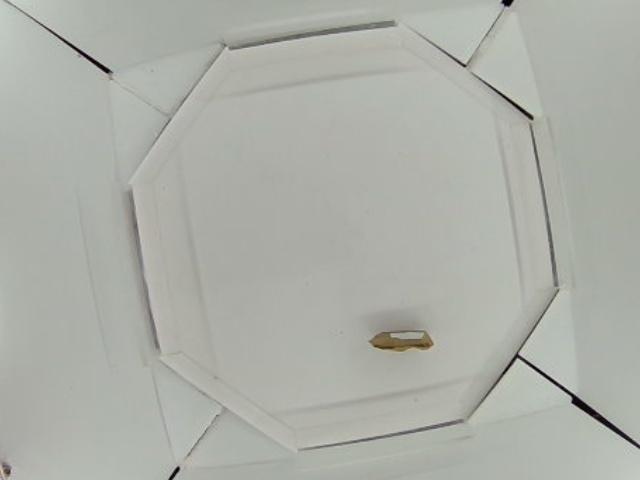China: (368, 327, 431, 355)
